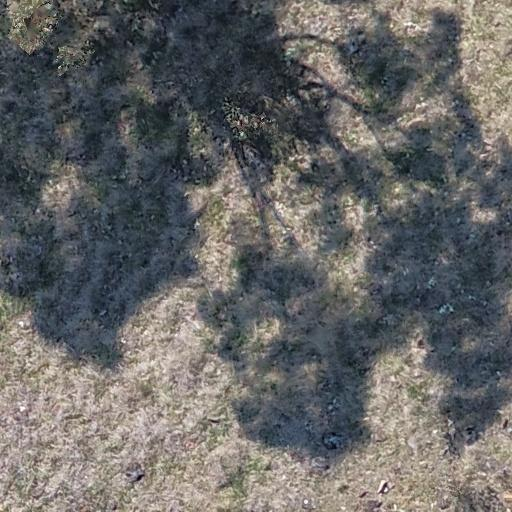stone: (355, 496, 381, 512), (310, 455, 330, 473), (125, 469, 144, 484), (30, 487, 46, 501), (372, 431, 388, 443), (437, 498, 451, 511), (378, 480, 388, 496), (355, 485, 366, 496), (386, 482, 395, 491), (413, 368, 421, 378), (416, 461, 427, 467), (479, 471, 487, 477), (430, 501, 436, 509), (281, 473, 287, 481), (392, 502, 398, 510), (99, 310, 108, 315), (432, 429, 438, 435)
